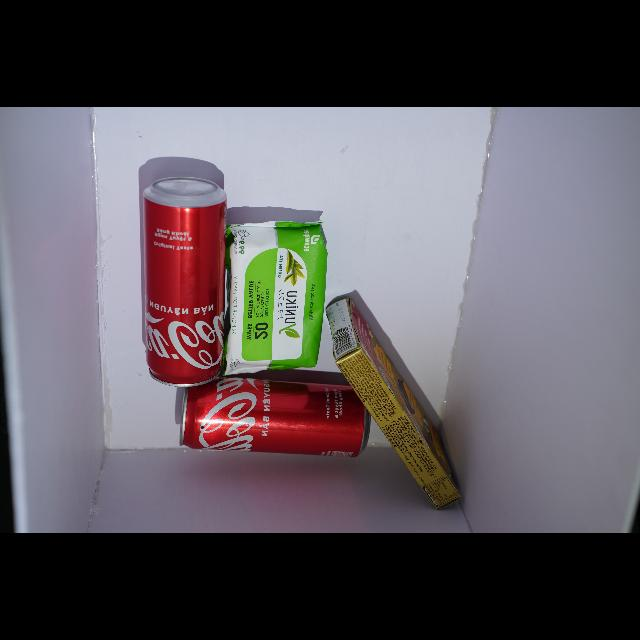banh_toppo_socola: (326, 298, 460, 509)
coca_cola: (142, 176, 226, 386), (181, 376, 369, 457)
khan_giay: (225, 222, 327, 374)
